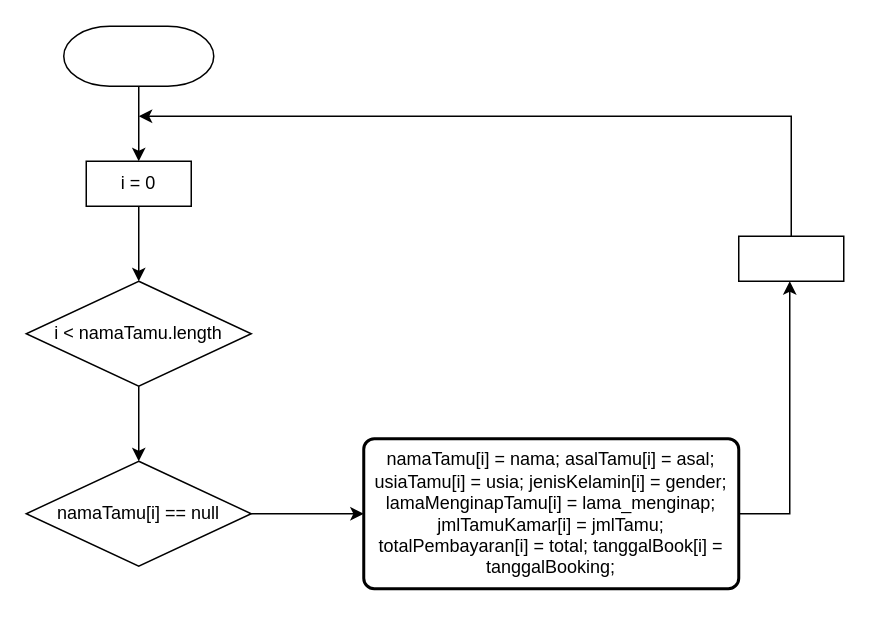
The diagram is 870 pixels wide and 617 high, and some of its shapes have lost their labels. The shapes that lost their labels are listed below. From the top down, each one's centre as x and y in pixels, then its label:
At pixel 138 55: "tambahTamu();".
At pixel 790 258: "i ++".
